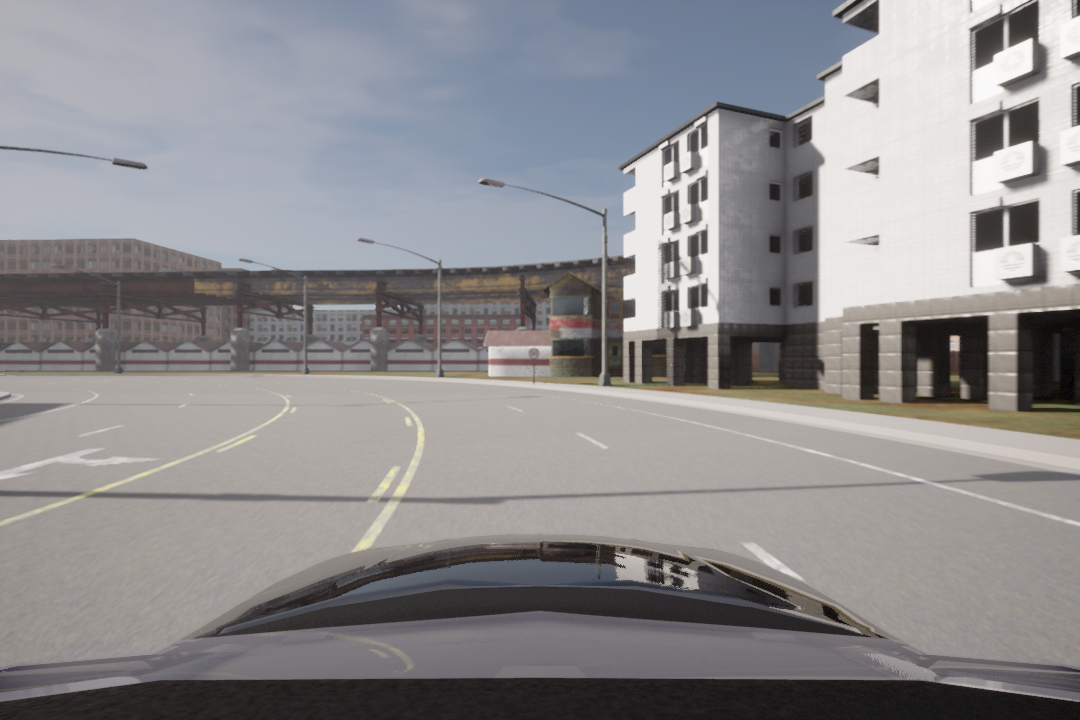RoadSign_forward_left: (1, 444, 156, 480)
